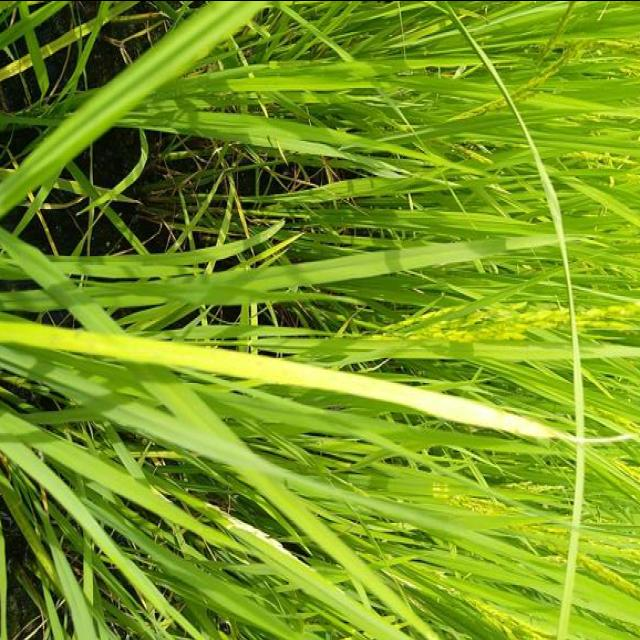Leaf Blight: (62, 330, 554, 438)
